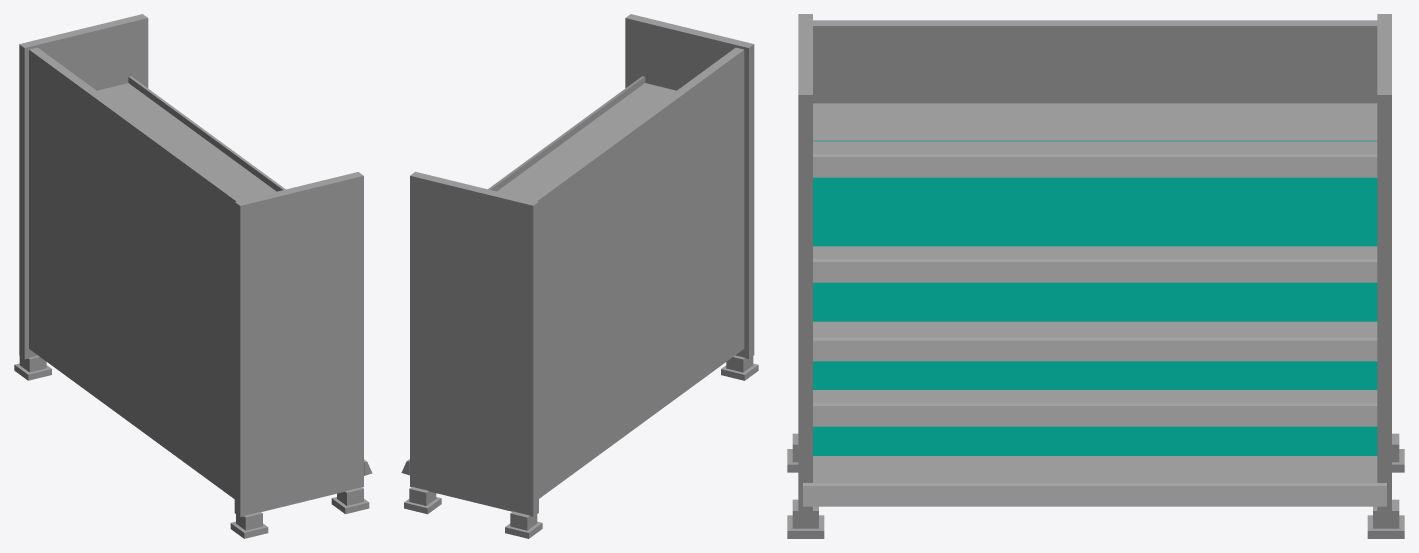
File: foodshelf.fbx
3 views of the same model, side by side, from view 1: azimuth 30°, elevation 25°; view 2: azimuth 150°, elevation 25°; view 3: azimuth 270°, elevation 25° (orthographic). The views are drawn at different scales.
Visible parts, largest first — view 1: pCube14; view 2: pCube14; view 3: pCube14.
Part boxes in pixels (<box>): pCube14: <box>14,14,372,538</box>; pCube14: <box>401,14,758,538</box>; pCube14: <box>787,14,1404,538</box>.
Bounding box in the file's own units: 1.44 × 3.38 × 4.27.
